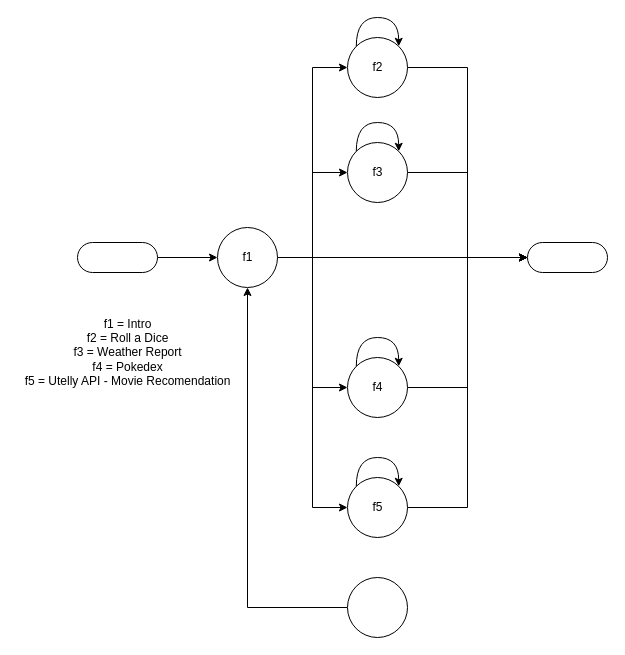
This 625x655 diagram has some shape labels left out. Here are the shapes that lost their labels. From the top down, the box of each, then its label:
(76, 242, 158, 272): Start
(526, 242, 608, 272): End
(346, 576, 408, 638): Erro
